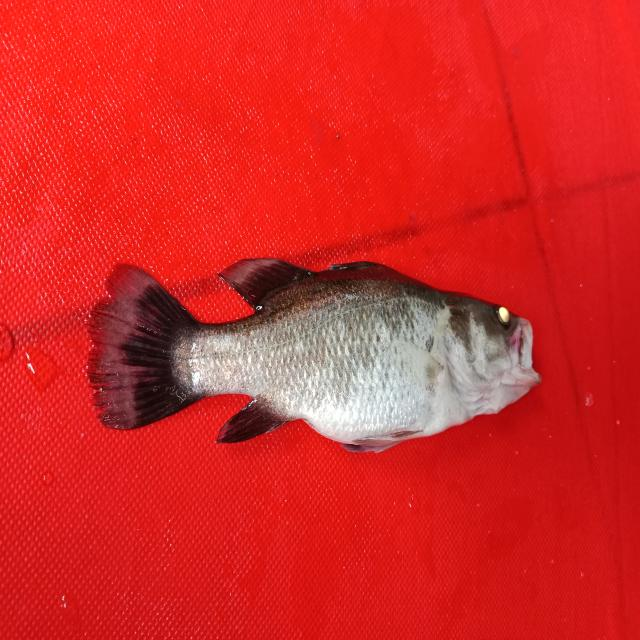ikan: (81, 226, 548, 474)
